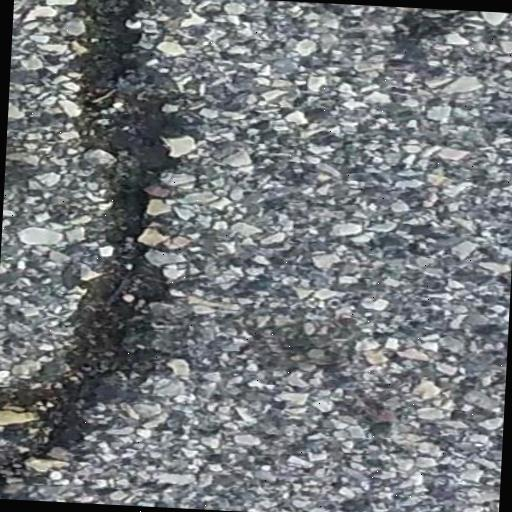spalling: (0, 0, 197, 496)
